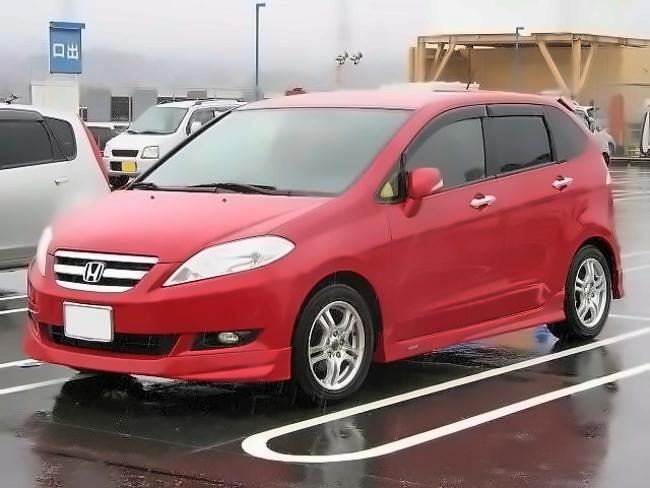Car hood: (42, 187, 337, 265)
Fender - -F-L-: (265, 178, 396, 351)
Fender - -R-L-: (578, 154, 614, 244)
Front bumper: (19, 268, 300, 387)
Headlight - -L-: (158, 230, 296, 290)
Headlight - -R-: (31, 218, 56, 281)
Passenger-s door - -F-L-: (395, 99, 500, 349)
Passenger-s door - -R-L-: (491, 99, 578, 323)
Rear bumper: (605, 235, 635, 304)
Side bumper - -L-: (369, 286, 571, 366)
Side mirror - -L-: (401, 164, 447, 219)
